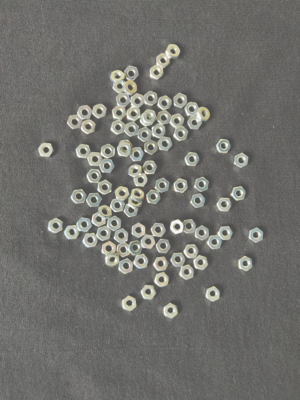nut: (122, 295, 138, 312), (163, 303, 179, 319), (141, 285, 157, 301), (134, 254, 150, 270), (83, 233, 99, 249), (155, 272, 170, 288), (180, 265, 196, 280), (194, 255, 209, 271), (238, 256, 253, 272), (119, 259, 134, 275), (156, 239, 172, 254), (114, 228, 129, 244), (97, 226, 112, 242), (77, 218, 93, 233), (86, 193, 102, 208), (231, 186, 247, 201), (76, 144, 92, 159), (117, 143, 133, 158), (144, 140, 159, 156), (157, 137, 173, 152), (111, 120, 126, 136), (81, 119, 96, 135), (67, 115, 83, 130), (110, 70, 126, 85), (150, 65, 165, 81), (156, 53, 171, 69), (166, 44, 181, 60), (38, 143, 55, 157), (206, 287, 221, 302), (154, 257, 169, 272), (141, 235, 156, 250), (128, 241, 143, 256), (208, 235, 223, 250), (249, 228, 264, 243), (170, 220, 185, 235), (151, 223, 166, 238), (107, 216, 122, 231), (87, 169, 102, 184), (147, 190, 162, 205), (174, 178, 189, 193), (191, 193, 206, 208), (195, 177, 210, 192), (100, 159, 115, 174), (216, 139, 231, 154), (234, 153, 249, 168), (101, 144, 116, 159), (130, 147, 145, 162), (174, 127, 189, 142), (138, 128, 153, 143), (77, 105, 92, 120), (92, 104, 107, 119), (196, 107, 211, 122), (170, 114, 185, 129), (157, 96, 172, 111), (116, 92, 131, 107), (124, 66, 139, 81), (184, 245, 200, 259), (218, 226, 234, 240), (49, 218, 63, 234), (110, 200, 126, 214), (71, 190, 87, 204), (98, 180, 112, 196), (156, 178, 170, 194), (217, 198, 233, 212), (87, 153, 103, 167), (174, 93, 188, 109), (171, 253, 186, 267), (106, 252, 120, 267), (196, 226, 210, 241), (132, 223, 146, 238), (65, 226, 80, 240), (92, 213, 107, 227), (98, 206, 113, 220), (124, 204, 139, 218), (128, 196, 143, 210), (115, 187, 130, 201), (129, 164, 143, 179), (143, 161, 158, 175), (185, 153, 200, 167), (152, 124, 166, 139), (125, 122, 139, 137), (157, 111, 172, 125), (143, 110, 157, 125), (127, 107, 141, 122), (112, 106, 127, 120), (144, 92, 158, 107), (124, 81, 138, 96), (187, 117, 203, 130), (102, 242, 116, 256), (185, 102, 199, 116), (131, 94, 145, 108), (117, 243, 130, 258), (134, 174, 149, 187), (184, 220, 197, 234), (131, 189, 145, 202), (120, 140, 133, 153), (140, 114, 153, 127), (113, 81, 126, 94)
